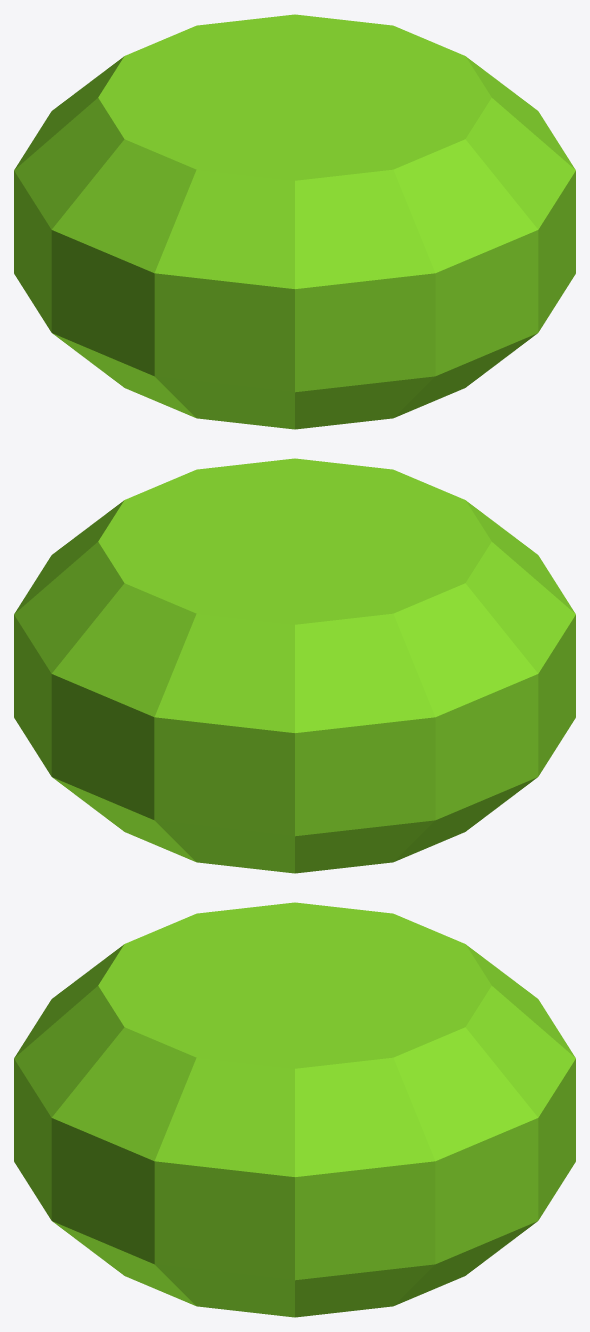
File: Crystal_Green_E.fbx
3 renders of one model, top to bottom at view 1: azimuth 30°, elevation 25°; view 2: azimuth 150°, elevation 25°; view 3: azimuth 270°, elevation 25°, orthographic.
Parts seen in each view (by area): view 1: Crystal_Green_E; view 2: Crystal_Green_E; view 3: Crystal_Green_E.
Part boxes in pixels (x1,y1,x2,y2): Crystal_Green_E: [14, 14, 575, 429]; Crystal_Green_E: [14, 458, 575, 873]; Crystal_Green_E: [14, 902, 575, 1317].
Size of the model in its own units: 84.61 by 41.32 by 84.61.
